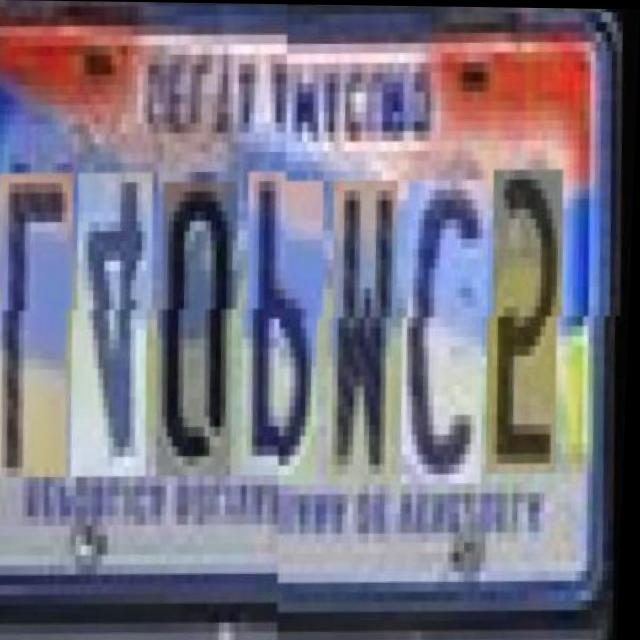0: (160, 182, 250, 478)
4: (75, 171, 165, 478)
5: (489, 160, 575, 466)
c: (405, 170, 500, 476)
l: (0, 172, 84, 479)
m: (330, 170, 409, 477)
p: (245, 171, 335, 478)
